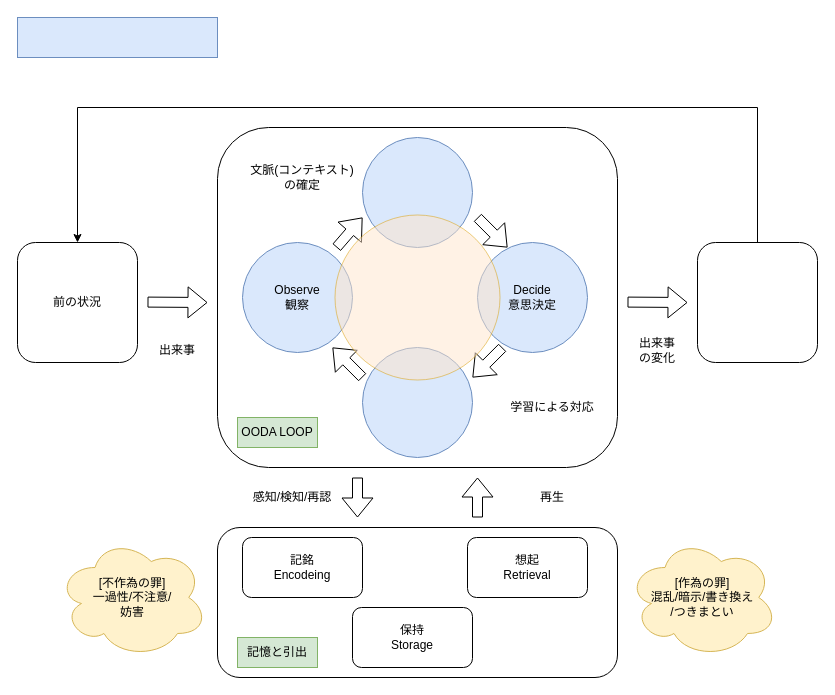
The diagram is 835 pixels wide and 695 high, and some of its shapes have lost their labels. Here are the shapes that lost their labels. From the top down, the box of each, then its label:
(16, 16, 218, 58): 出来事と記憶の構造
(362, 136, 472, 248): Orient 状況判断
(334, 214, 500, 380): 心の はたらき
(696, 242, 818, 362): 次の状況
(362, 346, 472, 458): Act 行動
